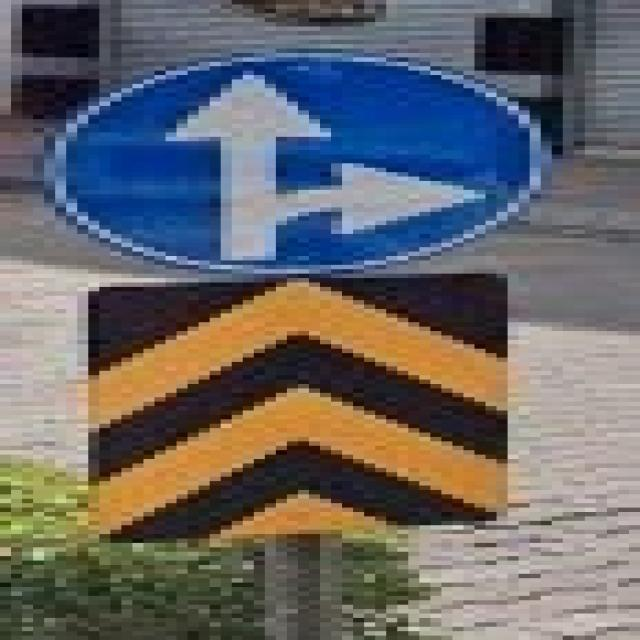Straight or Right: (56, 54, 542, 275)
